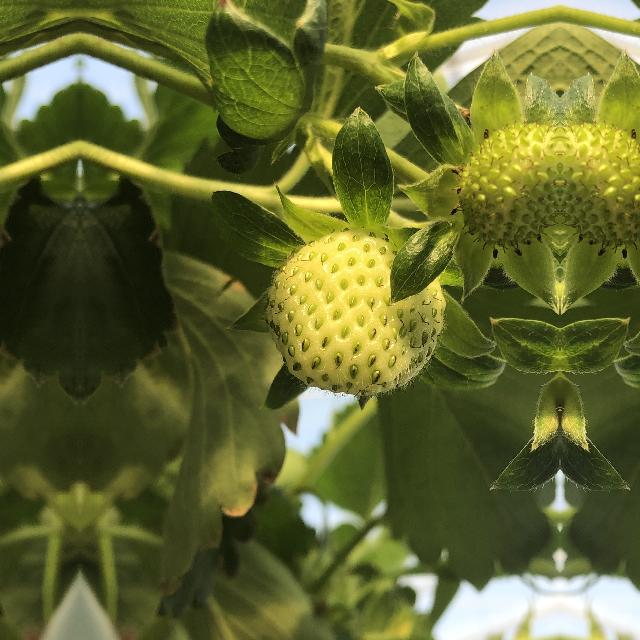Health_25: (264, 220, 454, 400), (458, 125, 560, 249), (560, 125, 640, 249)
